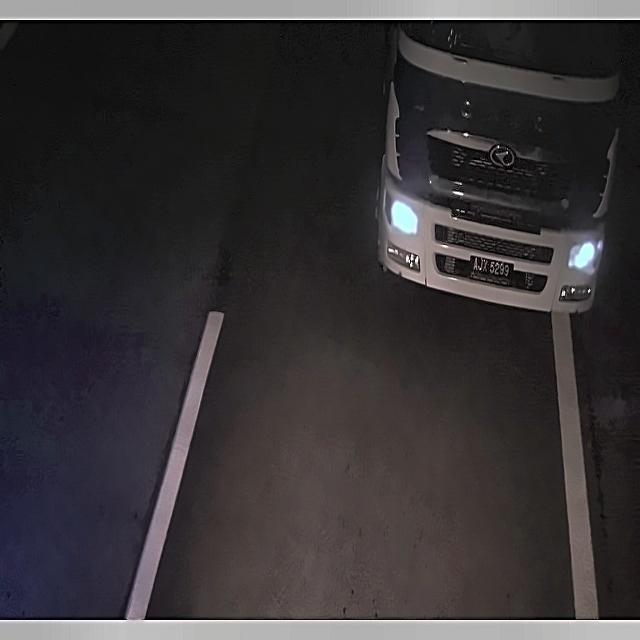car: (466, 248, 516, 293)
